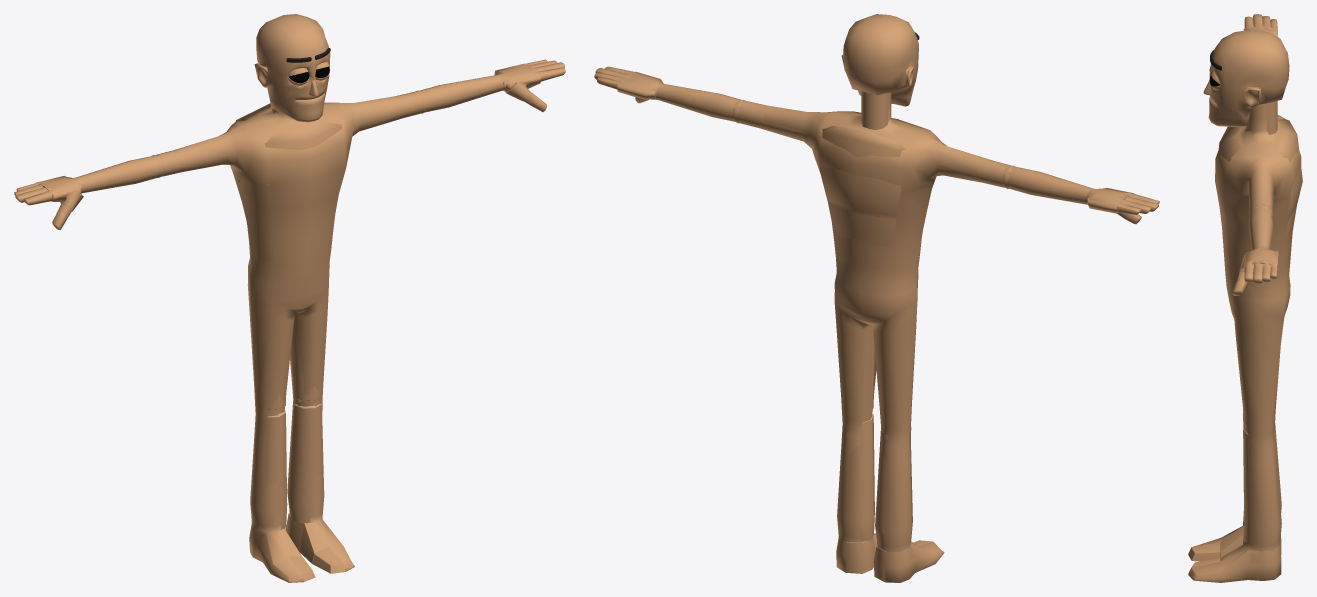
Rendered from MaxRig.obj.
The picture shows the model from 3 angles, left to right: view 1: azimuth 30°, elevation 25°; view 2: azimuth 150°, elevation 25°; view 3: azimuth 270°, elevation 25°; orthographic projection. The views are drawn at different scales.
Visible parts, largest first — view 1: Geometry Max bodySkin_Geo Skin_geo, Head_Proxy_Geo Geometry Max, Geometry Max Proxy_geo L_Leg_02_Proxy_Geo, Geometry Max Proxy_geo R_Leg_02_Proxy_Geo, Geometry Max Proxy_geo Spine_03_Proxy_Geo, Geometry Max Proxy_geo L_Foot_01_Proxy_Geo, Geometry Max Proxy_geo L_Leg_01_Proxy_Geo; view 2: Geometry Max bodySkin_Geo Skin_geo, Head_Proxy_Geo Geometry Max, Geometry Max Proxy_geo Spine_03_Proxy_Geo, Geometry Max Proxy_geo L_Leg_02_Proxy_Geo, Geometry Max Proxy_geo Spine_02_Proxy_Geo, Geometry Max Proxy_geo R_Arm_02_Proxy_Geo, Geometry Max Proxy_geo L_Arm_02_Proxy_Geo, Geometry Max Proxy_geo Neck_01_Proxy_Geo, Geometry Max Proxy_geo L_Foot_01_Proxy_Geo, Geometry Max Proxy_geo R_Leg_02_Proxy_Geo, Geometry Max Proxy_geo R_Arm_01_Proxy_Geo, Geometry Max Proxy_geo L_Arm_01_Proxy_Geo; view 3: Geometry Max bodySkin_Geo Skin_geo, Head_Proxy_Geo Geometry Max, Geometry Max Proxy_geo Spine_03_Proxy_Geo, Geometry Max Proxy_geo R_Foot_02_Proxy_Geo, Geometry Max Proxy_geo L_Leg_02_Proxy_Geo, Geometry Max Proxy_geo R_Foot_01_Proxy_Geo, Geometry Max Proxy_geo Neck_01_Proxy_Geo, Geometry Max Proxy_geo L_Arm_02_Proxy_Geo, Geometry Max Proxy_geo Spine_02_Proxy_Geo, Geometry Max Proxy_geo L_Foot_01_Proxy_Geo.
Part boxes in pixels (x1,y1,x2,y2): Geometry Max bodySkin_Geo Skin_geo: (14,59,565,582); Head_Proxy_Geo Geometry Max: (254,14,330,122); Geometry Max Proxy_geo L_Leg_02_Proxy_Geo: (287,399,322,523); Geometry Max Proxy_geo R_Leg_02_Proxy_Geo: (265,410,287,529); Geometry Max Proxy_geo Spine_03_Proxy_Geo: (236,103,345,184); Geometry Max Proxy_geo L_Foot_01_Proxy_Geo: (286,513,328,563); Geometry Max Proxy_geo L_Leg_01_Proxy_Geo: (292,320,321,401); Geometry Max bodySkin_Geo Skin_geo: (594,66,1159,582); Head_Proxy_Geo Geometry Max: (841,14,919,106); Geometry Max Proxy_geo Spine_03_Proxy_Geo: (820,111,928,216); Geometry Max Proxy_geo L_Leg_02_Proxy_Geo: (846,412,874,541); Geometry Max Proxy_geo Spine_02_Proxy_Geo: (829,203,895,247); Geometry Max Proxy_geo R_Arm_02_Proxy_Geo: (1002,165,1058,199); Geometry Max Proxy_geo L_Arm_02_Proxy_Geo: (683,94,745,123); Geometry Max Proxy_geo Neck_01_Proxy_Geo: (861,91,888,129); Geometry Max Proxy_geo L_Foot_01_Proxy_Geo: (845,534,877,573); Geometry Max Proxy_geo R_Leg_02_Proxy_Geo: (875,428,887,536); Geometry Max Proxy_geo R_Arm_01_Proxy_Geo: (937,163,1010,187); Geometry Max Proxy_geo L_Arm_01_Proxy_Geo: (737,101,801,132); Geometry Max bodySkin_Geo Skin_geo: (1188,14,1301,582); Head_Proxy_Geo Geometry Max: (1203,29,1289,126); Geometry Max Proxy_geo Spine_03_Proxy_Geo: (1218,118,1302,219); Geometry Max Proxy_geo R_Foot_02_Proxy_Geo: (1188,541,1220,561); Geometry Max Proxy_geo L_Leg_02_Proxy_Geo: (1243,429,1249,518); Geometry Max Proxy_geo R_Foot_01_Proxy_Geo: (1220,526,1281,557); Geometry Max Proxy_geo Neck_01_Proxy_Geo: (1267,101,1277,134); Geometry Max Proxy_geo L_Arm_02_Proxy_Geo: (1249,205,1273,239); Geometry Max Proxy_geo Spine_02_Proxy_Geo: (1284,207,1296,250); Geometry Max Proxy_geo L_Foot_01_Proxy_Geo: (1220,544,1281,563).
Size of the model in its own units: 207 by 194 by 37.97.
